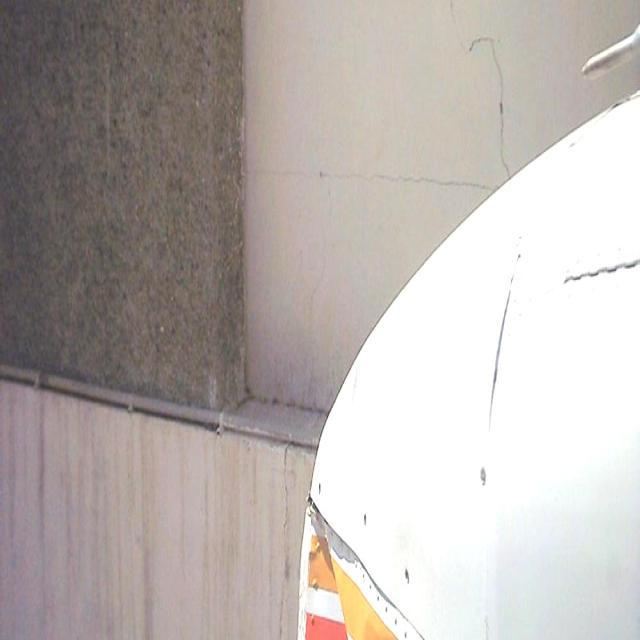Dent: (288, 478, 358, 640)
